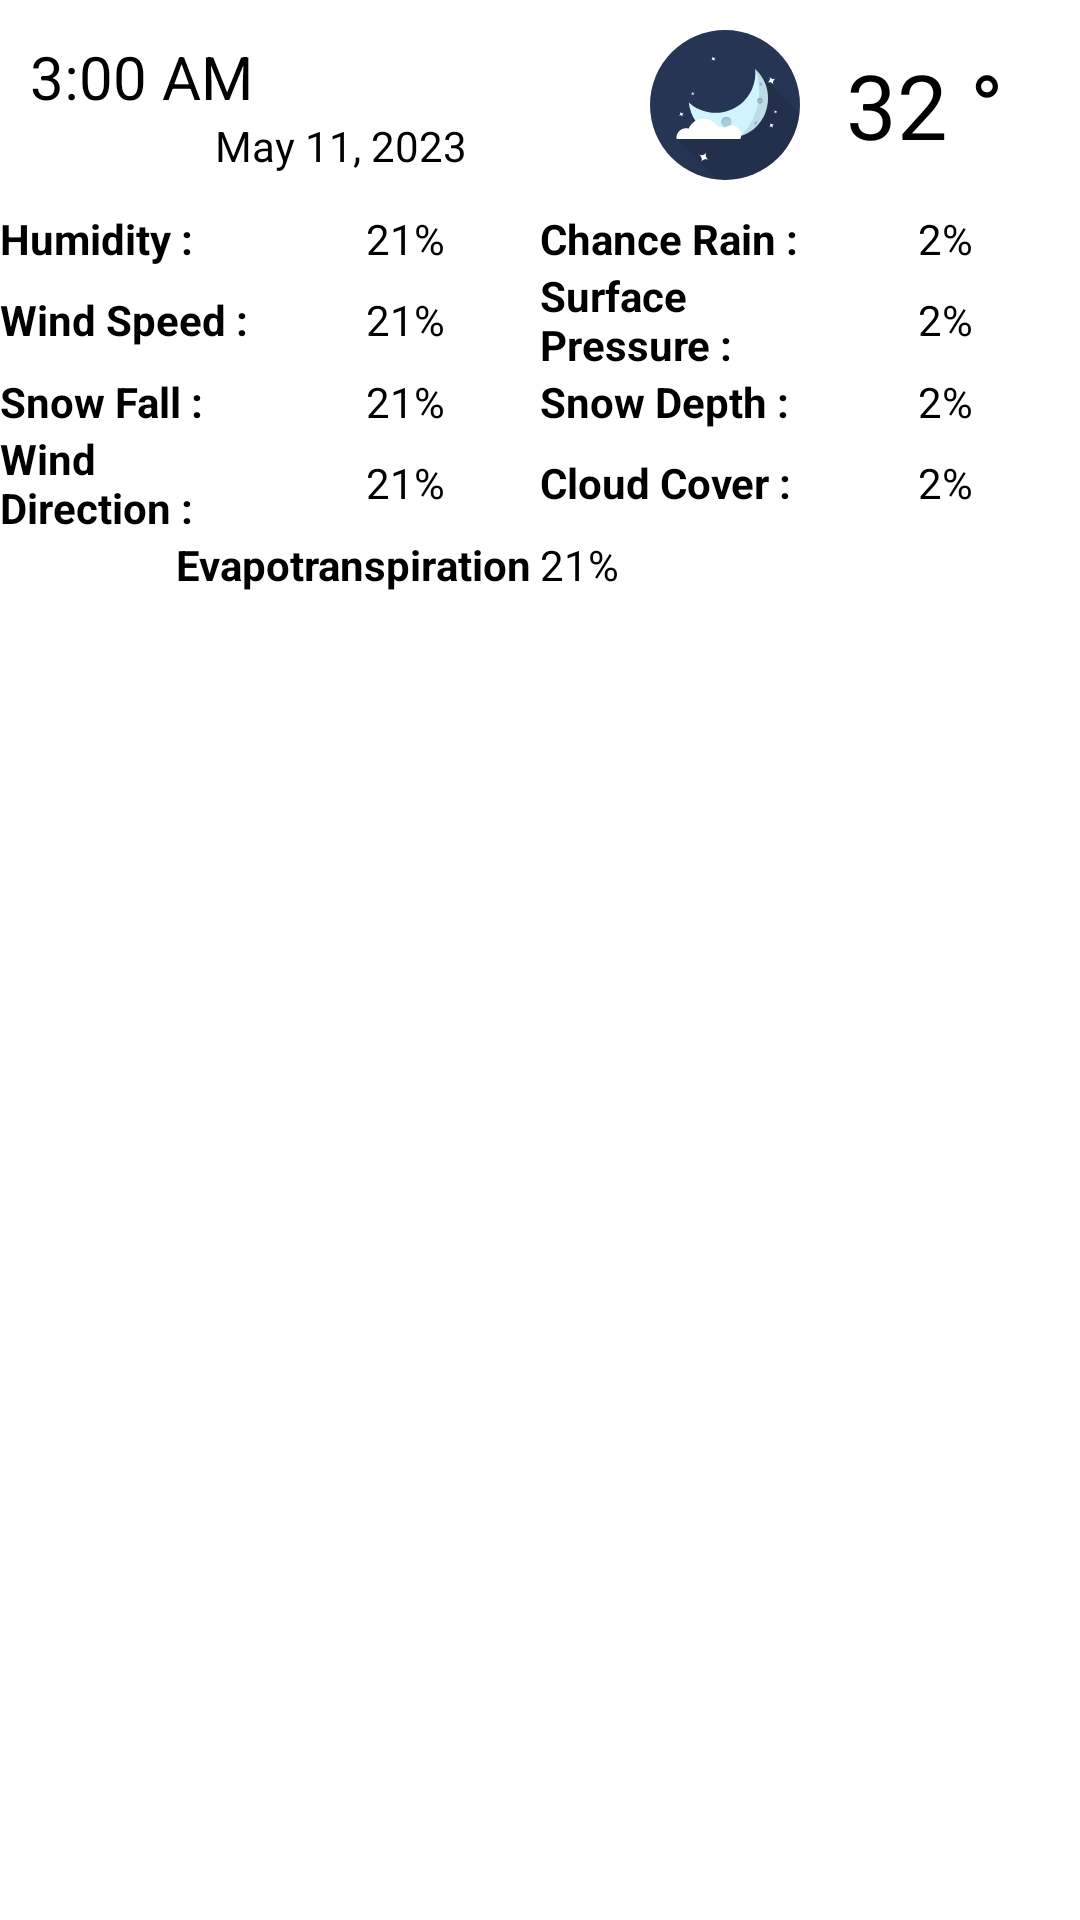

Named icons in this screenshot (1080px x 1920px) and their bounding boxes, (x1, y1, x2, y2):
night: (650, 30, 800, 180)
